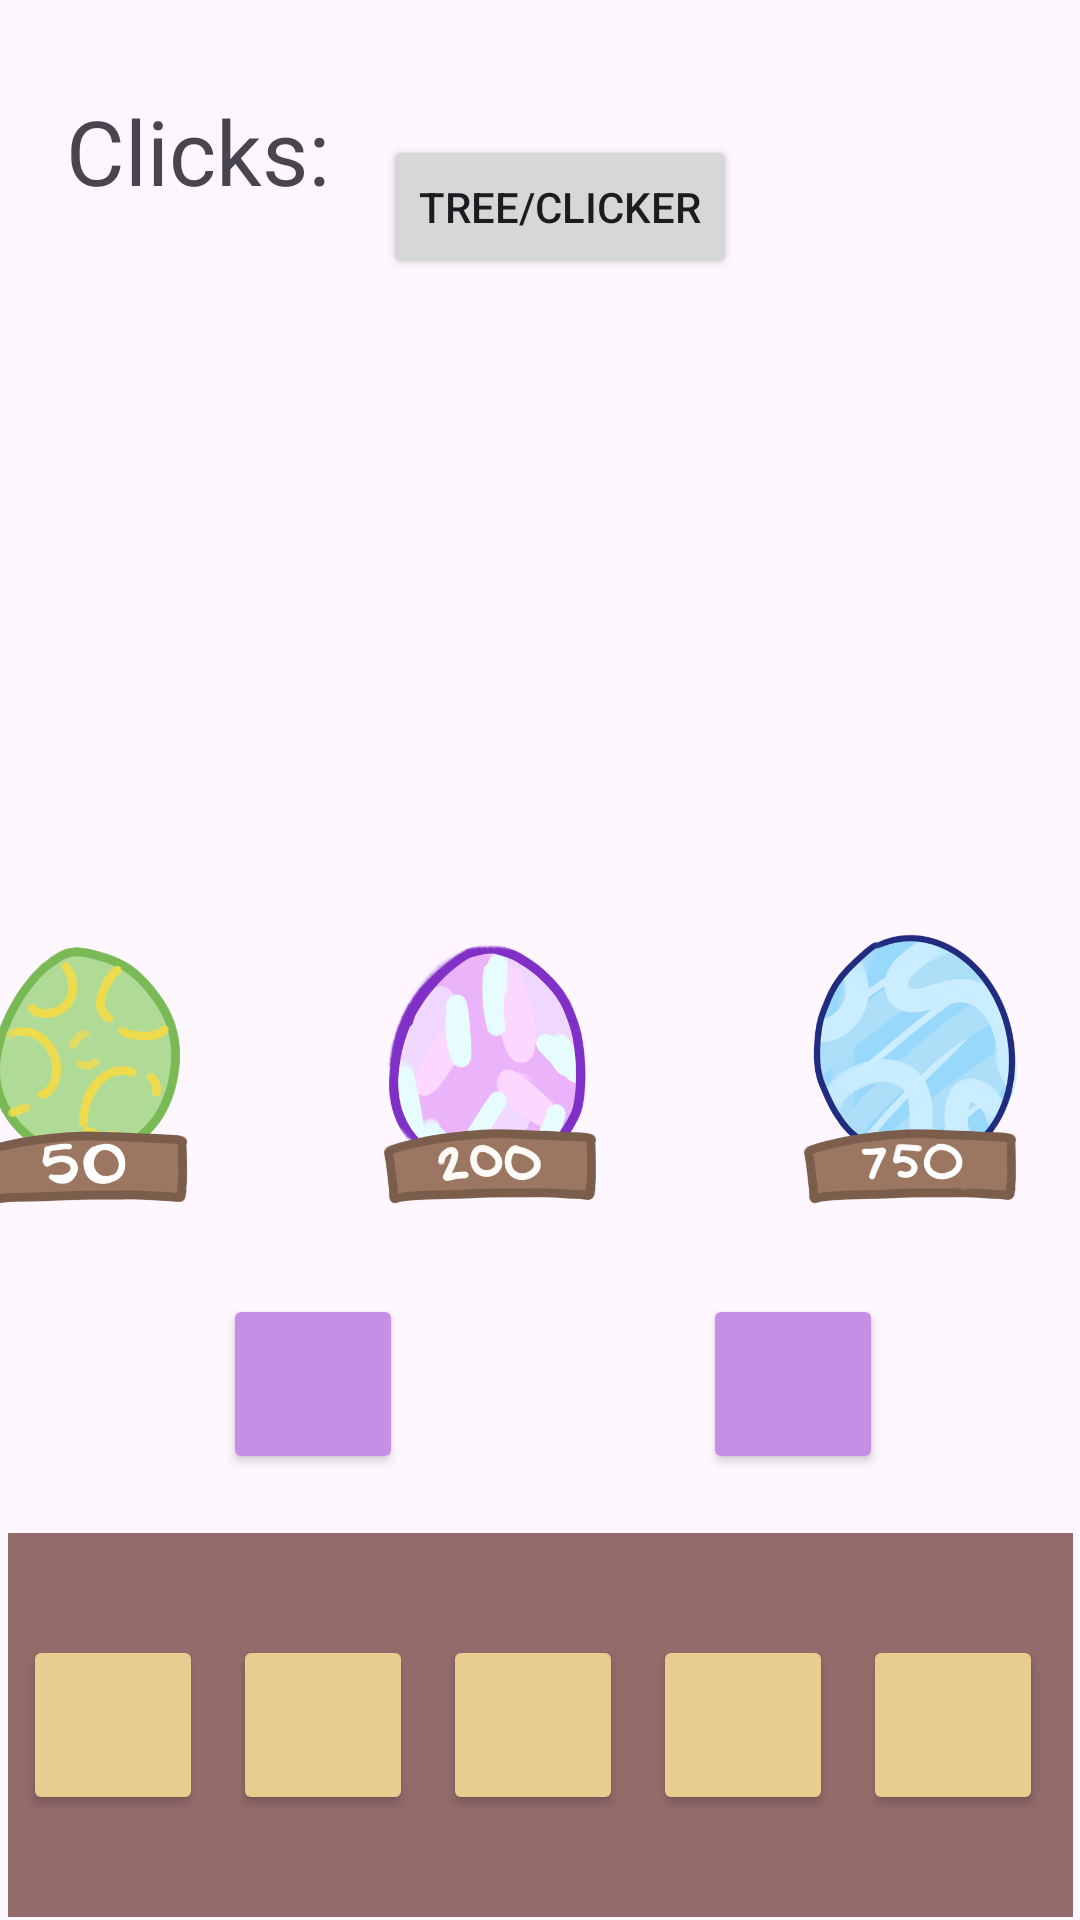

Point at icon controls on the screen. Image size 1080 × 1920, points as (x=x, y=y).
egg: (x=910, y=1069), (x=490, y=1074)
